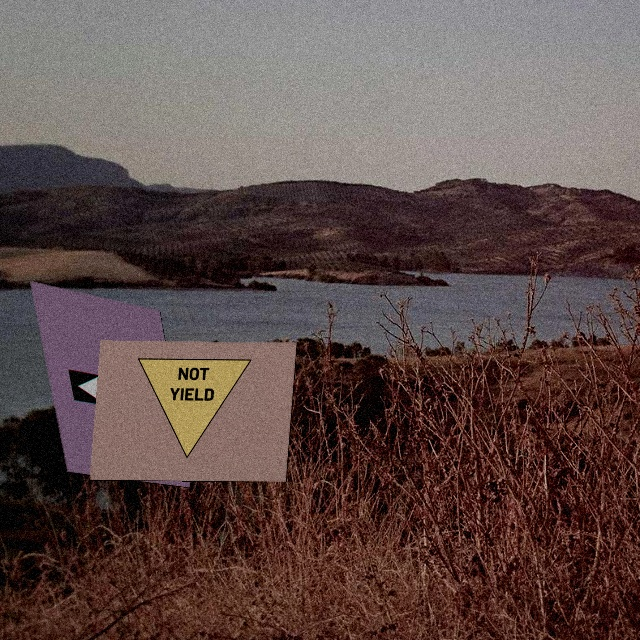NOT_YIELD: (130, 358, 251, 459)
ONE_WAY_ left: (69, 370, 164, 415)
